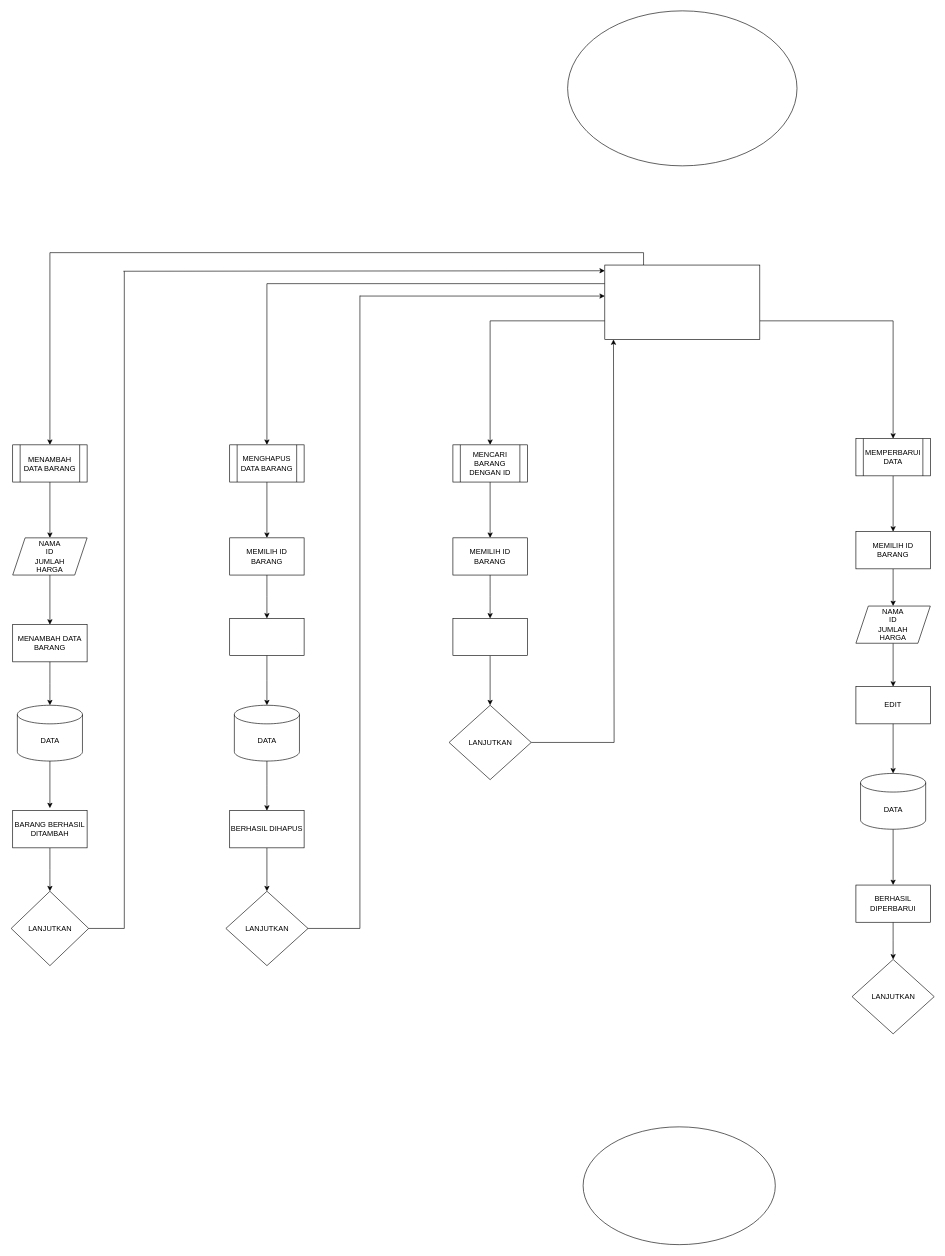
Some shapes in this 945 by 1256 pixel diagram are drawn without their labels. Each missing label, with the centre of its shape:
"HAPUS" goes at [266,637].
"MENAMPILKAN BARANG YANG DI CARI" goes at [489,637].
